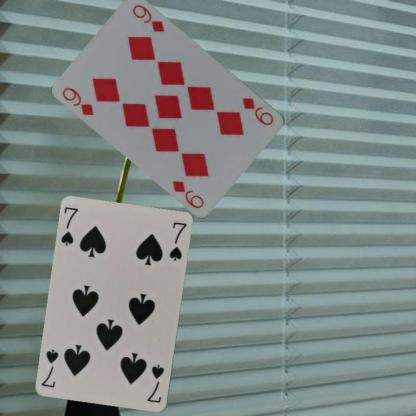7s: (58, 204, 80, 248), (144, 362, 166, 404)
9d: (59, 84, 96, 118), (240, 94, 275, 127)
